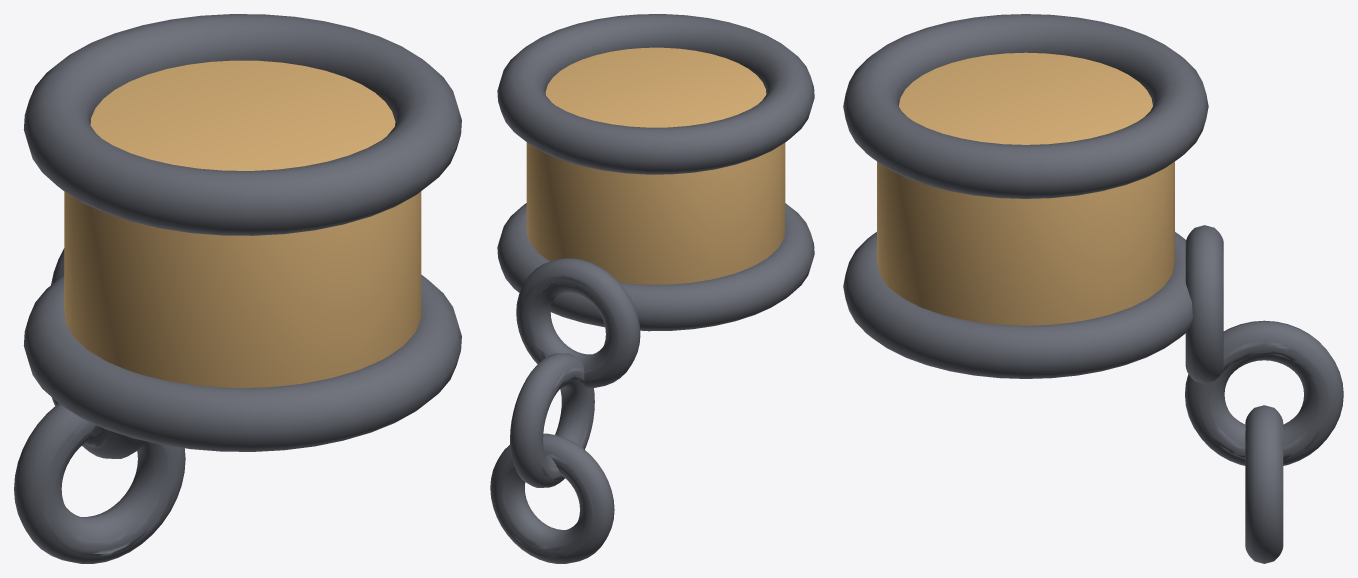
Rendered from alistar_cuff.glb.
3 views of the same model, side by side, from view 1: azimuth 30°, elevation 25°; view 2: azimuth 150°, elevation 25°; view 3: azimuth 270°, elevation 25° (orthographic). The views are drawn at different scales.
Visible parts, largest first — view 1: alistar_cuff; view 2: alistar_cuff; view 3: alistar_cuff.
Boxes of the visible parts, x1,y1,x2,y2 form: alistar_cuff: (14, 14, 461, 563); alistar_cuff: (490, 14, 814, 563); alistar_cuff: (843, 14, 1343, 563).
Bounding box in the file's own units: 0.184 × 0.2636 × 0.252.
